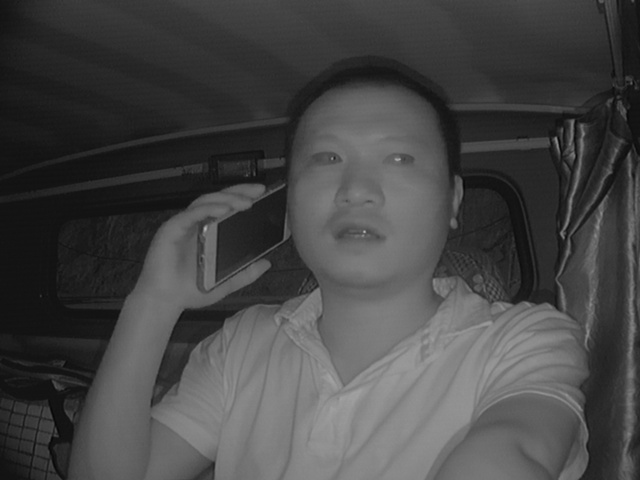hand: (151, 183, 275, 309)
